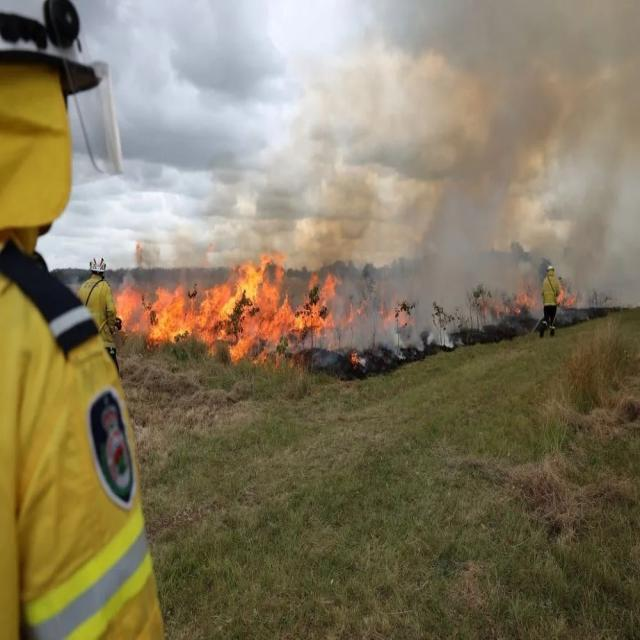Fire: (117, 248, 346, 362)
Smoke: (215, 0, 640, 283)
